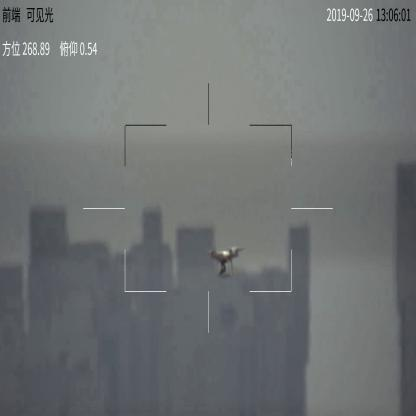uav: (201, 246, 241, 276)
